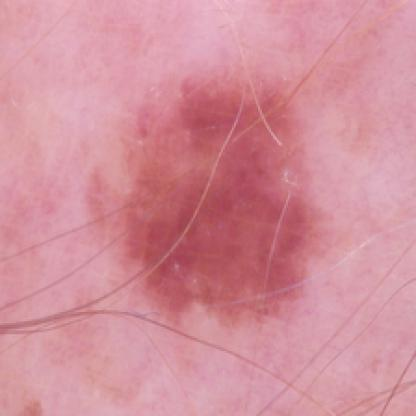benign: (121, 82, 319, 314)
